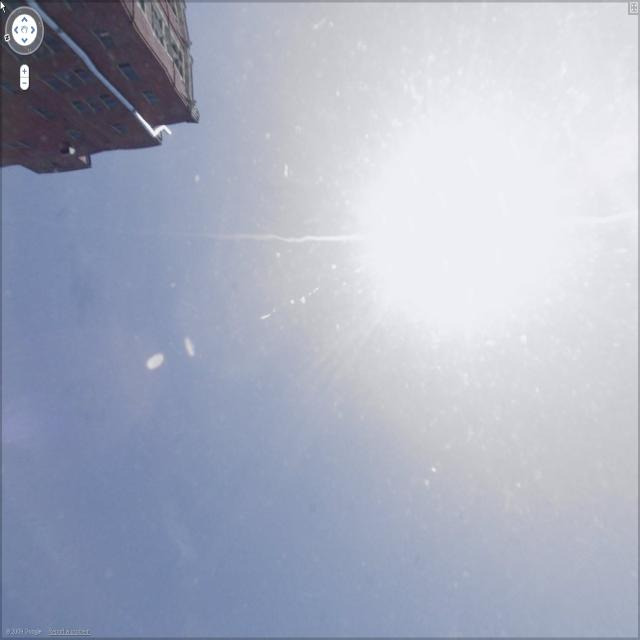b_1: (1, 15, 217, 144)
